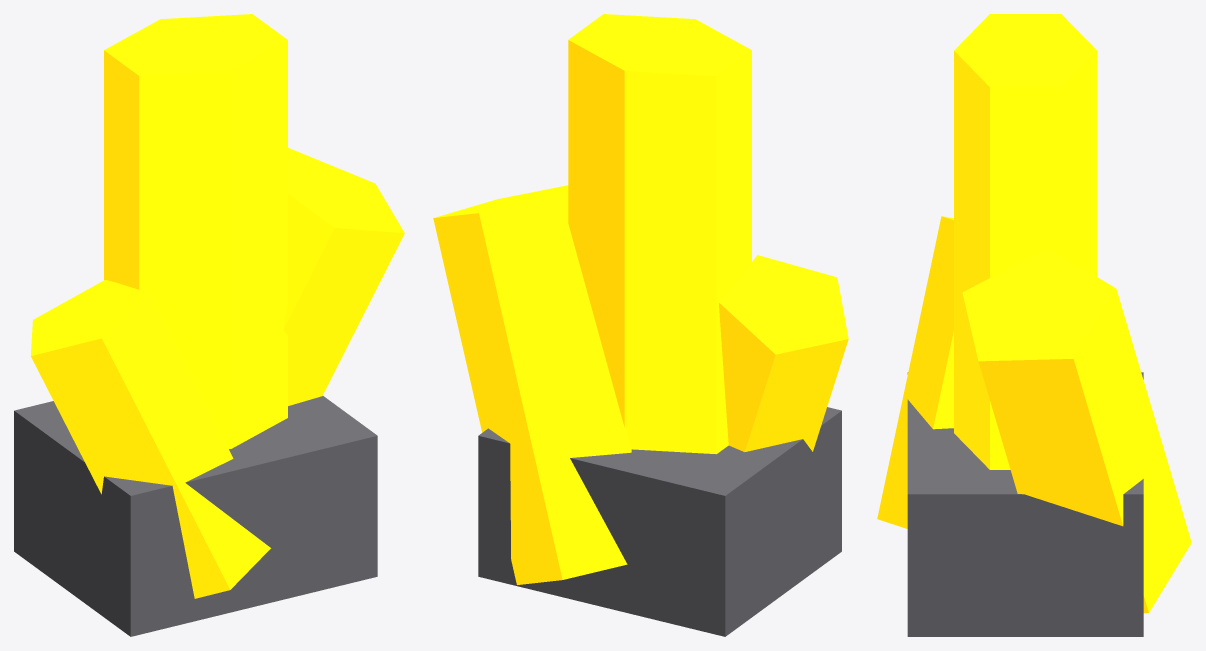
The model's file is SlagIronShard.glb.
3 views of the same model, side by side, from view 1: azimuth 30°, elevation 25°; view 2: azimuth 150°, elevation 25°; view 3: azimuth 270°, elevation 25° (orthographic).
Visible parts, largest first — view 1: SlagIronShard; view 2: SlagIronShard; view 3: SlagIronShard.
Part boxes in pixels (<box>): SlagIronShard: <box>14,14,404,636</box>; SlagIronShard: <box>433,14,848,636</box>; SlagIronShard: <box>877,14,1191,636</box>.
Size of the model in its own units: 1.86 by 2.47 by 1.32.
